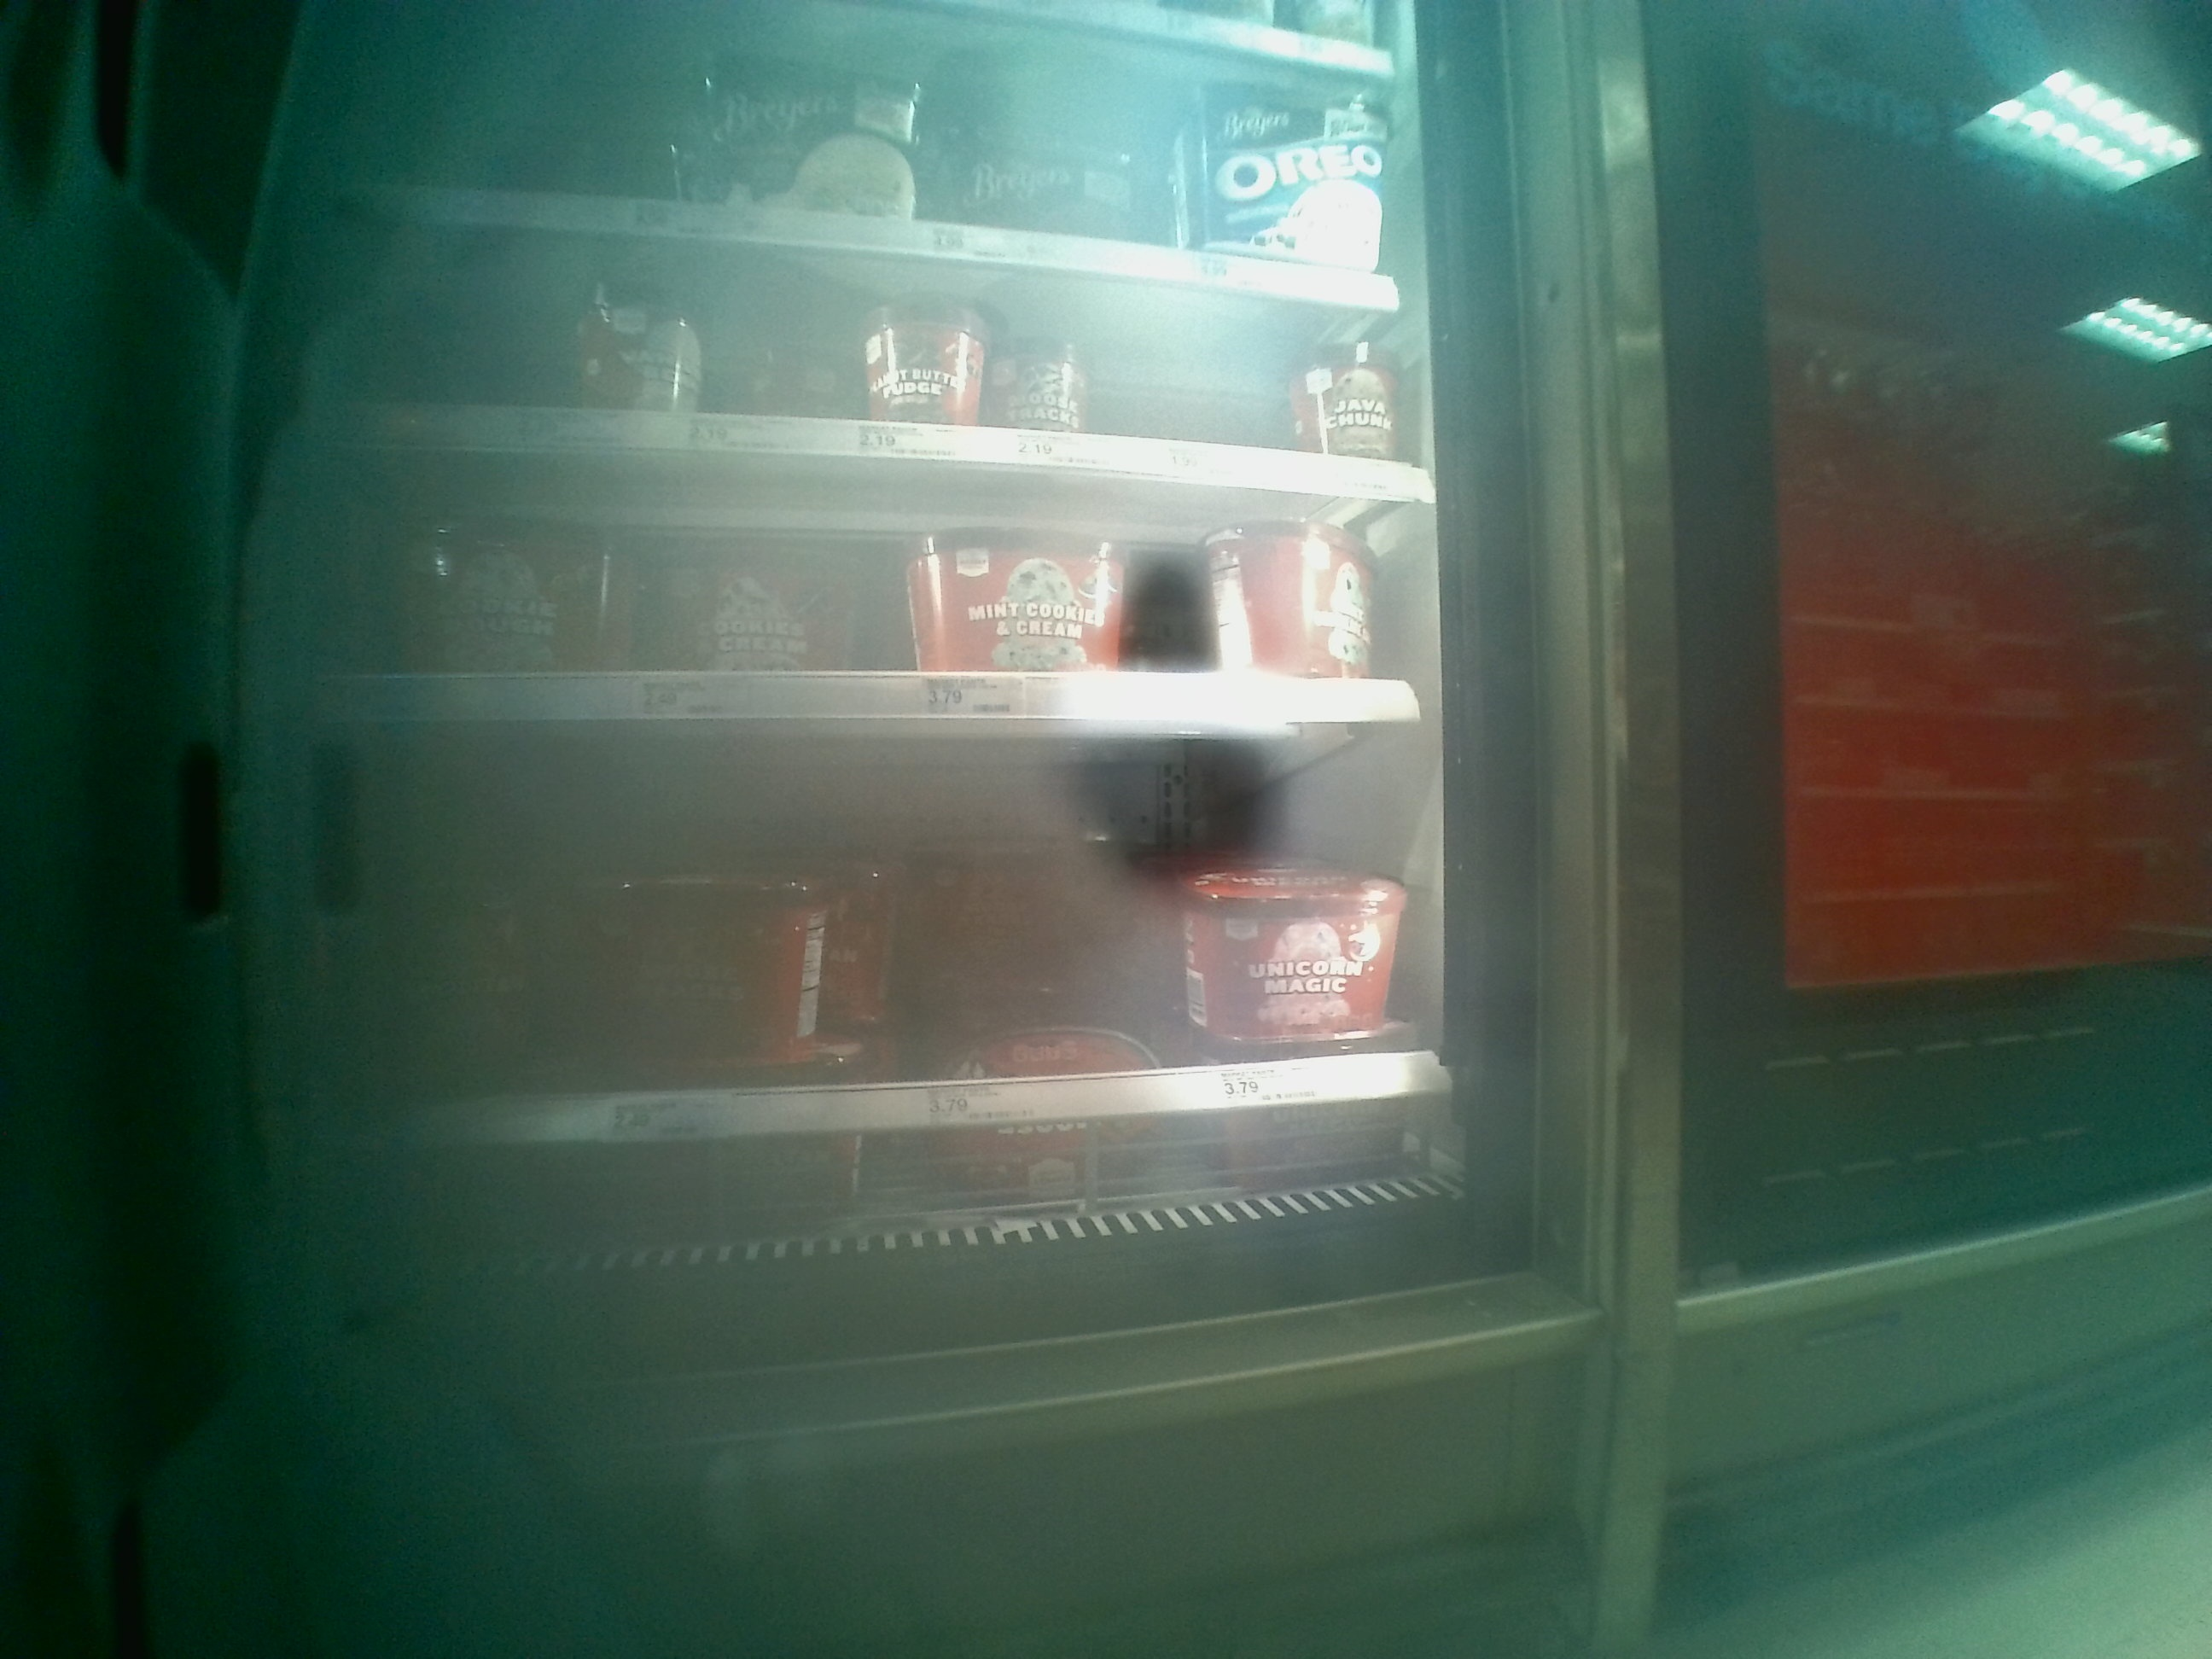shelf: (336, 728, 1440, 1211), (340, 436, 1446, 728), (340, 207, 1439, 502)
